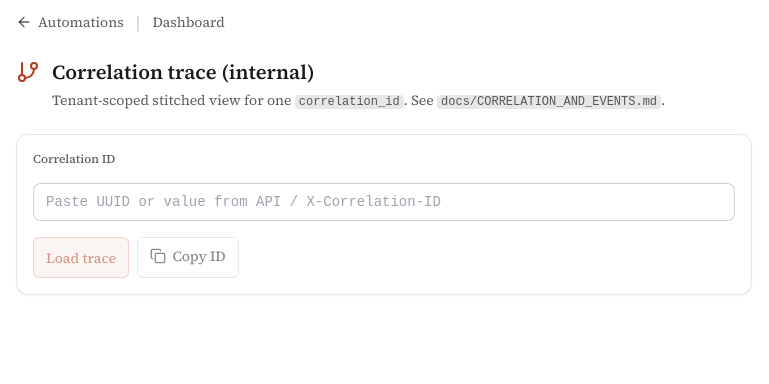
CorrelationDebugPage › shows friendly message when trace endpoint is disabled
The image size is (769, 384).
Type "x" into the field with placeholder "Paste UUID or value from API / X-Correlation-ID".
click(384, 202); type("x")  # box left=33, top=183, right=735, bottom=221
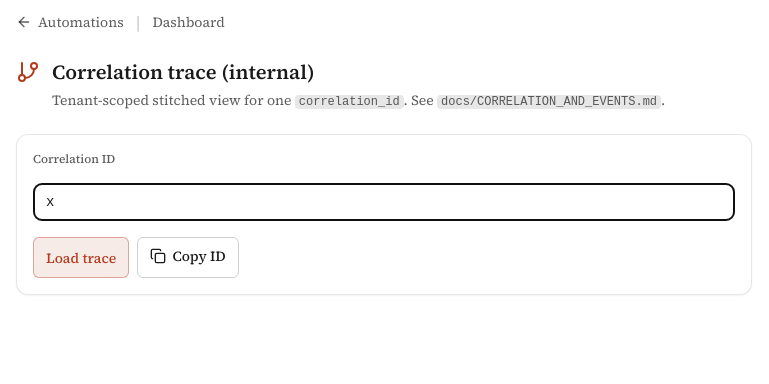
Click the button "Load trace".
click(81, 258)  # box left=33, top=237, right=129, bottom=278
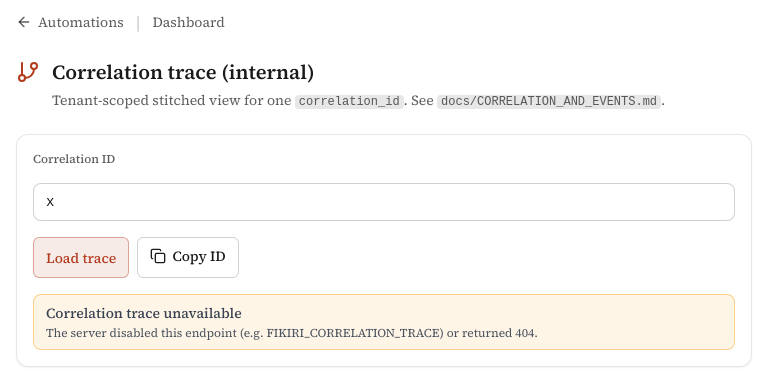
Expected: the text "Correlation trace unavailable" is shown, left=46, top=303, right=242, bottom=323
